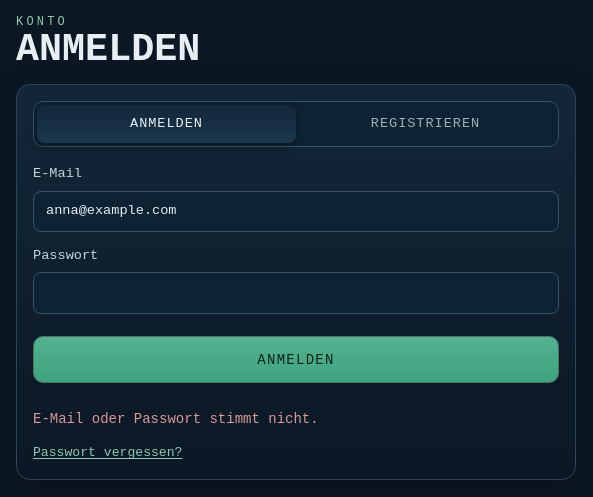
Test: LoginPageComponent › forgotten password › mails the link for the e-mail typed into the sign-in form and says so
Click the button with class "forgot-btn".
click(108, 453)  # box [33,443,182,463]
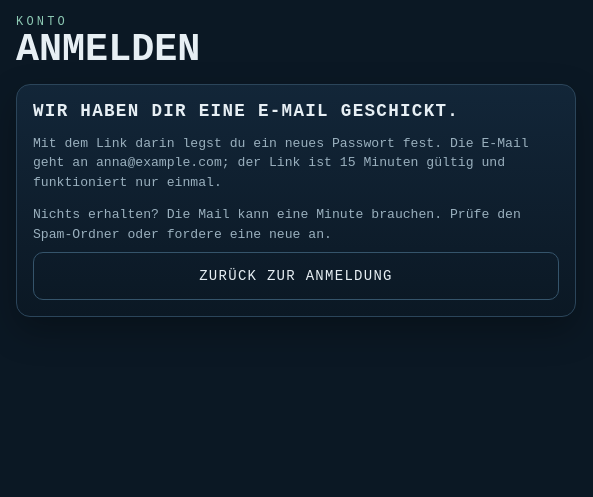
Result: the text "Wir haben dir eine E-Mail geschickt." is shown at [33,101,459,121]
Result: the text "Mit dem Link darin legst du ein neues Passwort fest." is shown at [33,136,529,190]
Result: the text "anna@example.com" is shown at [33,136,529,190]
